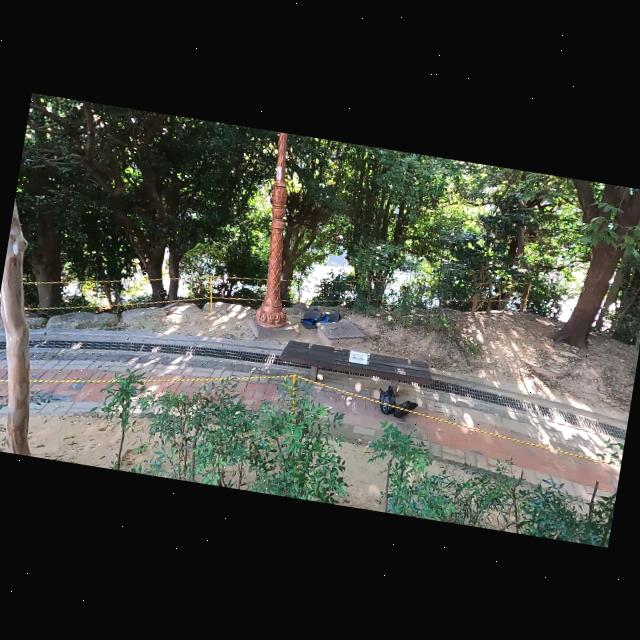trash: (299, 303, 344, 333), (375, 383, 400, 416), (394, 396, 418, 422)
